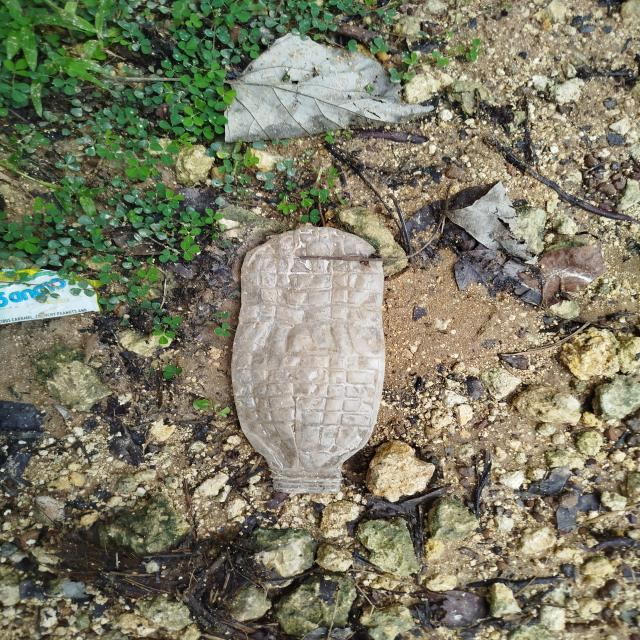plastic: (218, 215, 408, 509)
